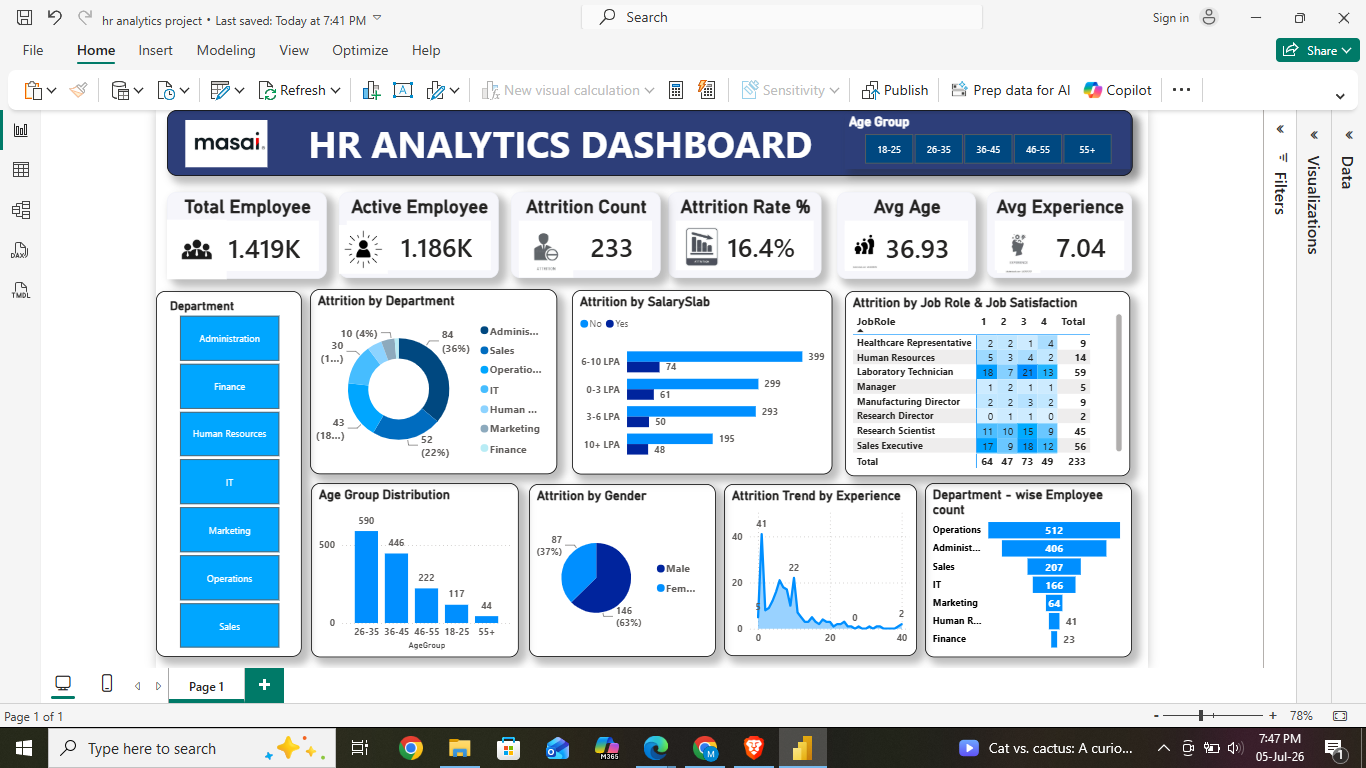

This screenshot's page, from the dashboard's own definition file:
{"tool":"powerbi","page":{"name":"Page 1","canvas":[1280,720],"ordinal":0},"visuals":[{"type":"textbox","box":[13.8,0,1245.6,85.3],"z":0},{"type":"image","box":[26.2,12.4,129.4,60.6],"z":1000},{"type":"cardVisual","title":"Total Employee","fields":{"Data":["CountNonNull(HR_Analytics.EmpID)"]},"box":[14.2,105.8,206.5,112.3],"z":2000},{"type":"cardVisual","title":"Active Employee","fields":{"Data":["CountNonNull(HR_Analytics.EmployeeCount)"]},"box":[236.7,106,206.5,111.5],"z":3000},{"type":"cardVisual","title":"Attrition Rate %","fields":{"Data":["HR_Analytics.Attrition Rate %"]},"box":[660.6,106,198.2,111.5],"z":4000},{"type":"cardVisual","title":"Attrition Count","fields":{"Data":["Sum(HR_Analytics.attrition count)"]},"box":[458.3,106,192.7,111.5],"z":5000},{"type":"cardVisual","title":"Avg Age","fields":{"Data":["Avg(HR_Analytics.Age)"]},"box":[878.7,105.8,179.4,112.3],"z":6000},{"type":"cardVisual","title":"Avg Experience","fields":{"Data":["Avg(HR_Analytics.YearsatCompany)"]},"box":[1072.2,106,187.2,111.5],"z":6001},{"type":"image","box":[236.7,148.6,63.3,63.3],"z":6002},{"type":"image","box":[13.8,126.6,77.1,107.4],"z":6003},{"type":"image","box":[1084.6,148.6,56.4,63.3],"z":6004},{"type":"image","box":[878.1,148.6,71.6,56.4],"z":6005},{"type":"image","box":[468,137.6,70.2,85.3],"z":6006},{"type":"image","box":[674.4,148.6,59.2,56.4],"z":6007},{"type":"donutChart","title":"Attrition  by Department","fields":{"Category":["HR_Analytics.Department"],"Y":["Sum(HR_Analytics.attrition count)"]},"box":[198.6,230.4,318.8,239.1],"z":6008},{"type":"clusteredBarChart","title":"Attrition by SalarySlab ","fields":{"Y":["CountNonNull(HR_Analytics.EmpID)"],"Category":["HR_Analytics.SalarySlab"],"Series":["HR_Analytics.Attrition"]},"box":[536.2,231.9,336.2,237.7],"z":6009},{"type":"pivotTable","title":"Attrition by Job Role  & Job Satisfaction","fields":{"Rows":["HR_Analytics.JobRole"],"Values":["Sum(HR_Analytics.attrition count)"],"Columns":["HR_Analytics.JobSatisfaction"]},"box":[888.4,233.3,368.1,239.1],"z":6010},{"type":"columnChart","title":"Age Group Distribution","fields":{"Category":["HR_Analytics.AgeGroup"],"Y":["Sum(HR_Analytics.EmployeeCount)"]},"box":[200,481.2,268.1,224.6],"z":6011},{"type":"pieChart","title":"Attrition by Gender","fields":{"Category":["HR_Analytics.Gender"],"Y":["Sum(HR_Analytics.attrition count)"]},"box":[481.2,482.6,240.6,223.2],"z":6012},{"type":"areaChart","title":"Attrition Trend by Experience","fields":{"Category":["HR_Analytics.TotalExperience(Years)"],"Y":["Sum(HR_Analytics.attrition count)"]},"box":[733.3,482.6,249.3,221.7],"z":6013},{"type":"funnel","title":"Department - wise Employee count","fields":{"Category":["HR_Analytics.Department"],"Y":["CountNonNull(HR_Analytics.EmpID)"]},"box":[992.8,481.2,287,224.6],"z":6014},{"type":"slicer","fields":{"Values":["HR_Analytics.Department"]},"box":[0,233.3,188.4,472.5],"z":6015},{"type":"slicer","title":"Age Group","fields":{"Values":["HR_Analytics.AgeGroup"]},"box":[888.4,5.8,368.1,71],"z":6016}]}

Visuals, with their boxes on the page's 1280x720 design canvas (x1, y1, x2, y2). These are canvas units, not pixel positions in the 1366x768 screenshot, which may show the page scaled, cropped or inside an application window:
textbox: (14, 0, 1259, 85)
image: (26, 12, 156, 73)
"Total Employee" cardVisual: (14, 106, 221, 218)
"Active Employee" cardVisual: (237, 106, 443, 218)
"Attrition Rate %" cardVisual: (661, 106, 859, 218)
"Attrition Count" cardVisual: (458, 106, 651, 218)
"Avg Age" cardVisual: (879, 106, 1058, 218)
"Avg Experience" cardVisual: (1072, 106, 1259, 218)
image: (237, 149, 300, 212)
image: (14, 127, 91, 234)
image: (1085, 149, 1141, 212)
image: (878, 149, 950, 205)
image: (468, 138, 538, 223)
image: (674, 149, 734, 205)
"Attrition  by Department" donutChart: (199, 230, 517, 470)
"Attrition by SalarySlab " clusteredBarChart: (536, 232, 872, 470)
"Attrition by Job Role  & Job Satisfaction" pivotTable: (888, 233, 1256, 472)
"Age Group Distribution" columnChart: (200, 481, 468, 706)
"Attrition by Gender" pieChart: (481, 483, 722, 706)
"Attrition Trend by Experience" areaChart: (733, 483, 983, 704)
"Department - wise Employee count" funnel: (993, 481, 1280, 706)
slicer - HR_Analytics.Department: (0, 233, 188, 706)
"Age Group" slicer: (888, 6, 1256, 77)
